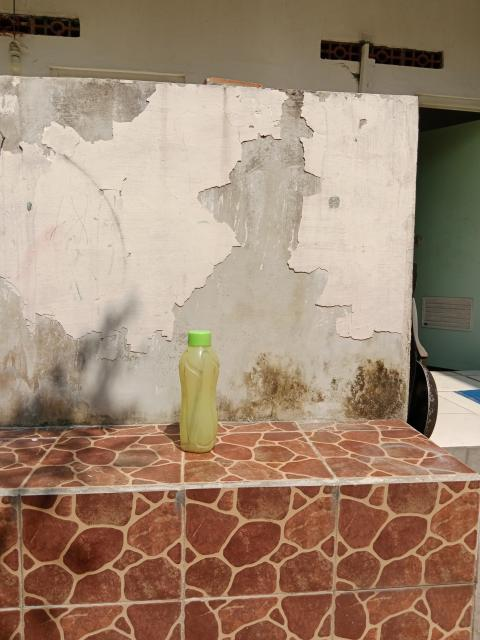botol: (168, 326, 230, 466)
